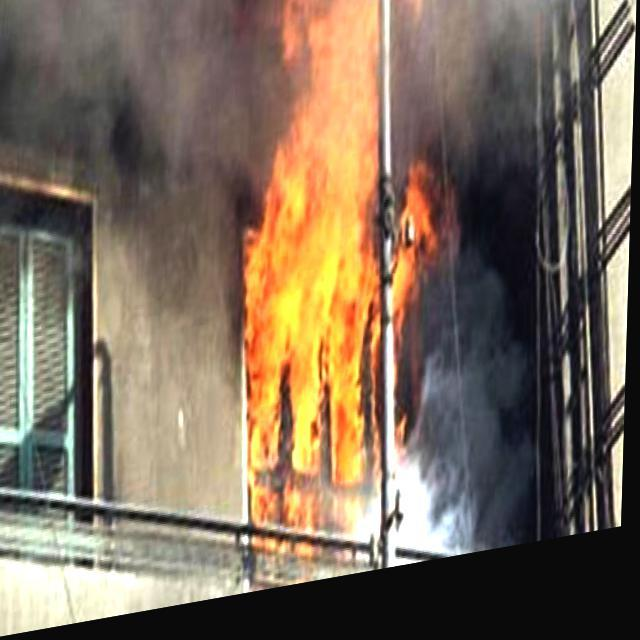Fire: (228, 0, 448, 561)
